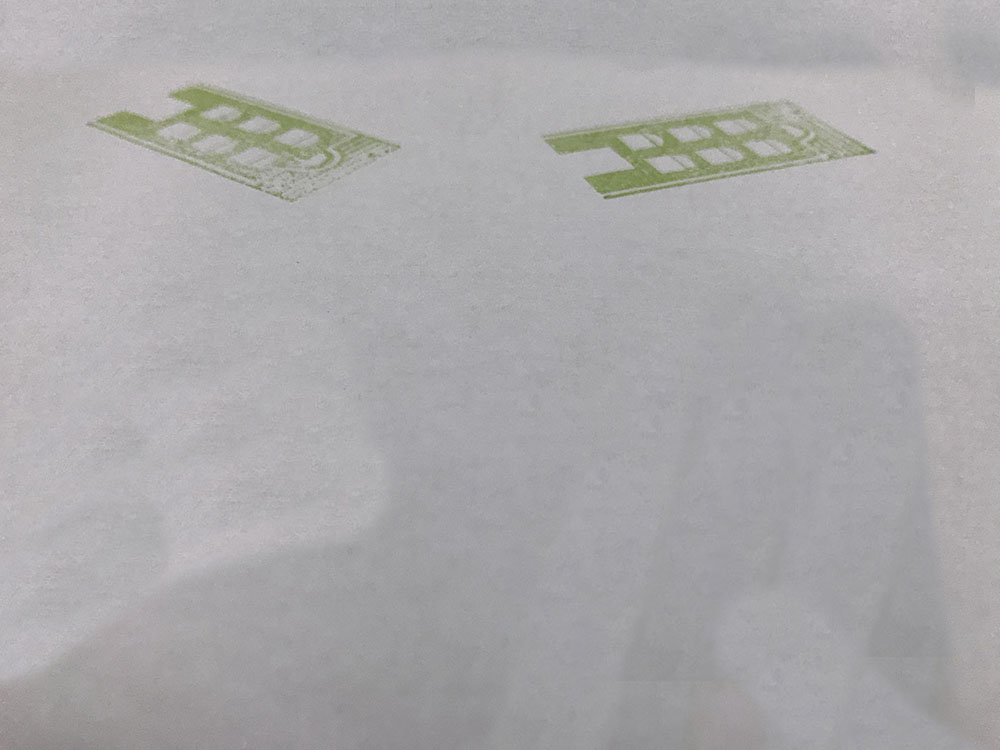build: (65, 66, 425, 219), (521, 83, 896, 218)
